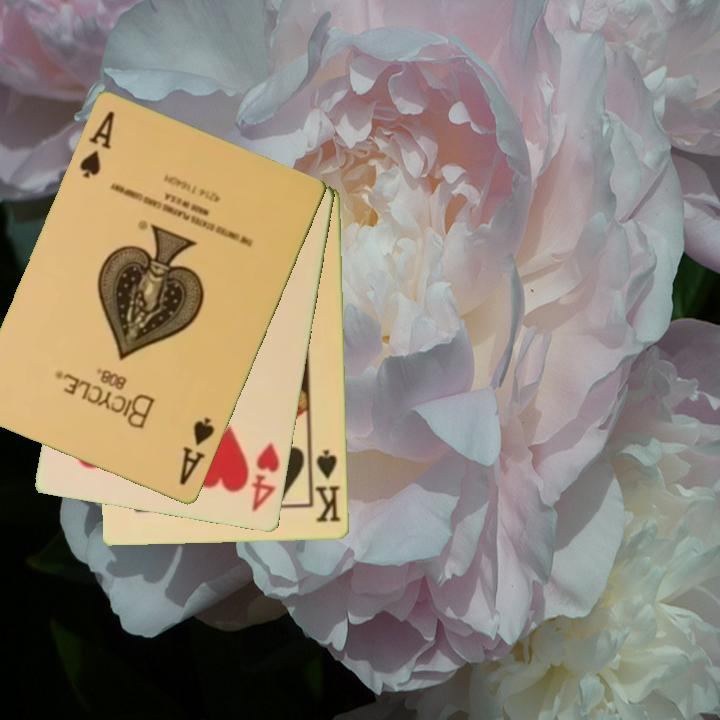4h: (248, 440, 283, 516)
As: (175, 414, 218, 489), (76, 108, 118, 182)
Ks: (310, 447, 344, 526)
